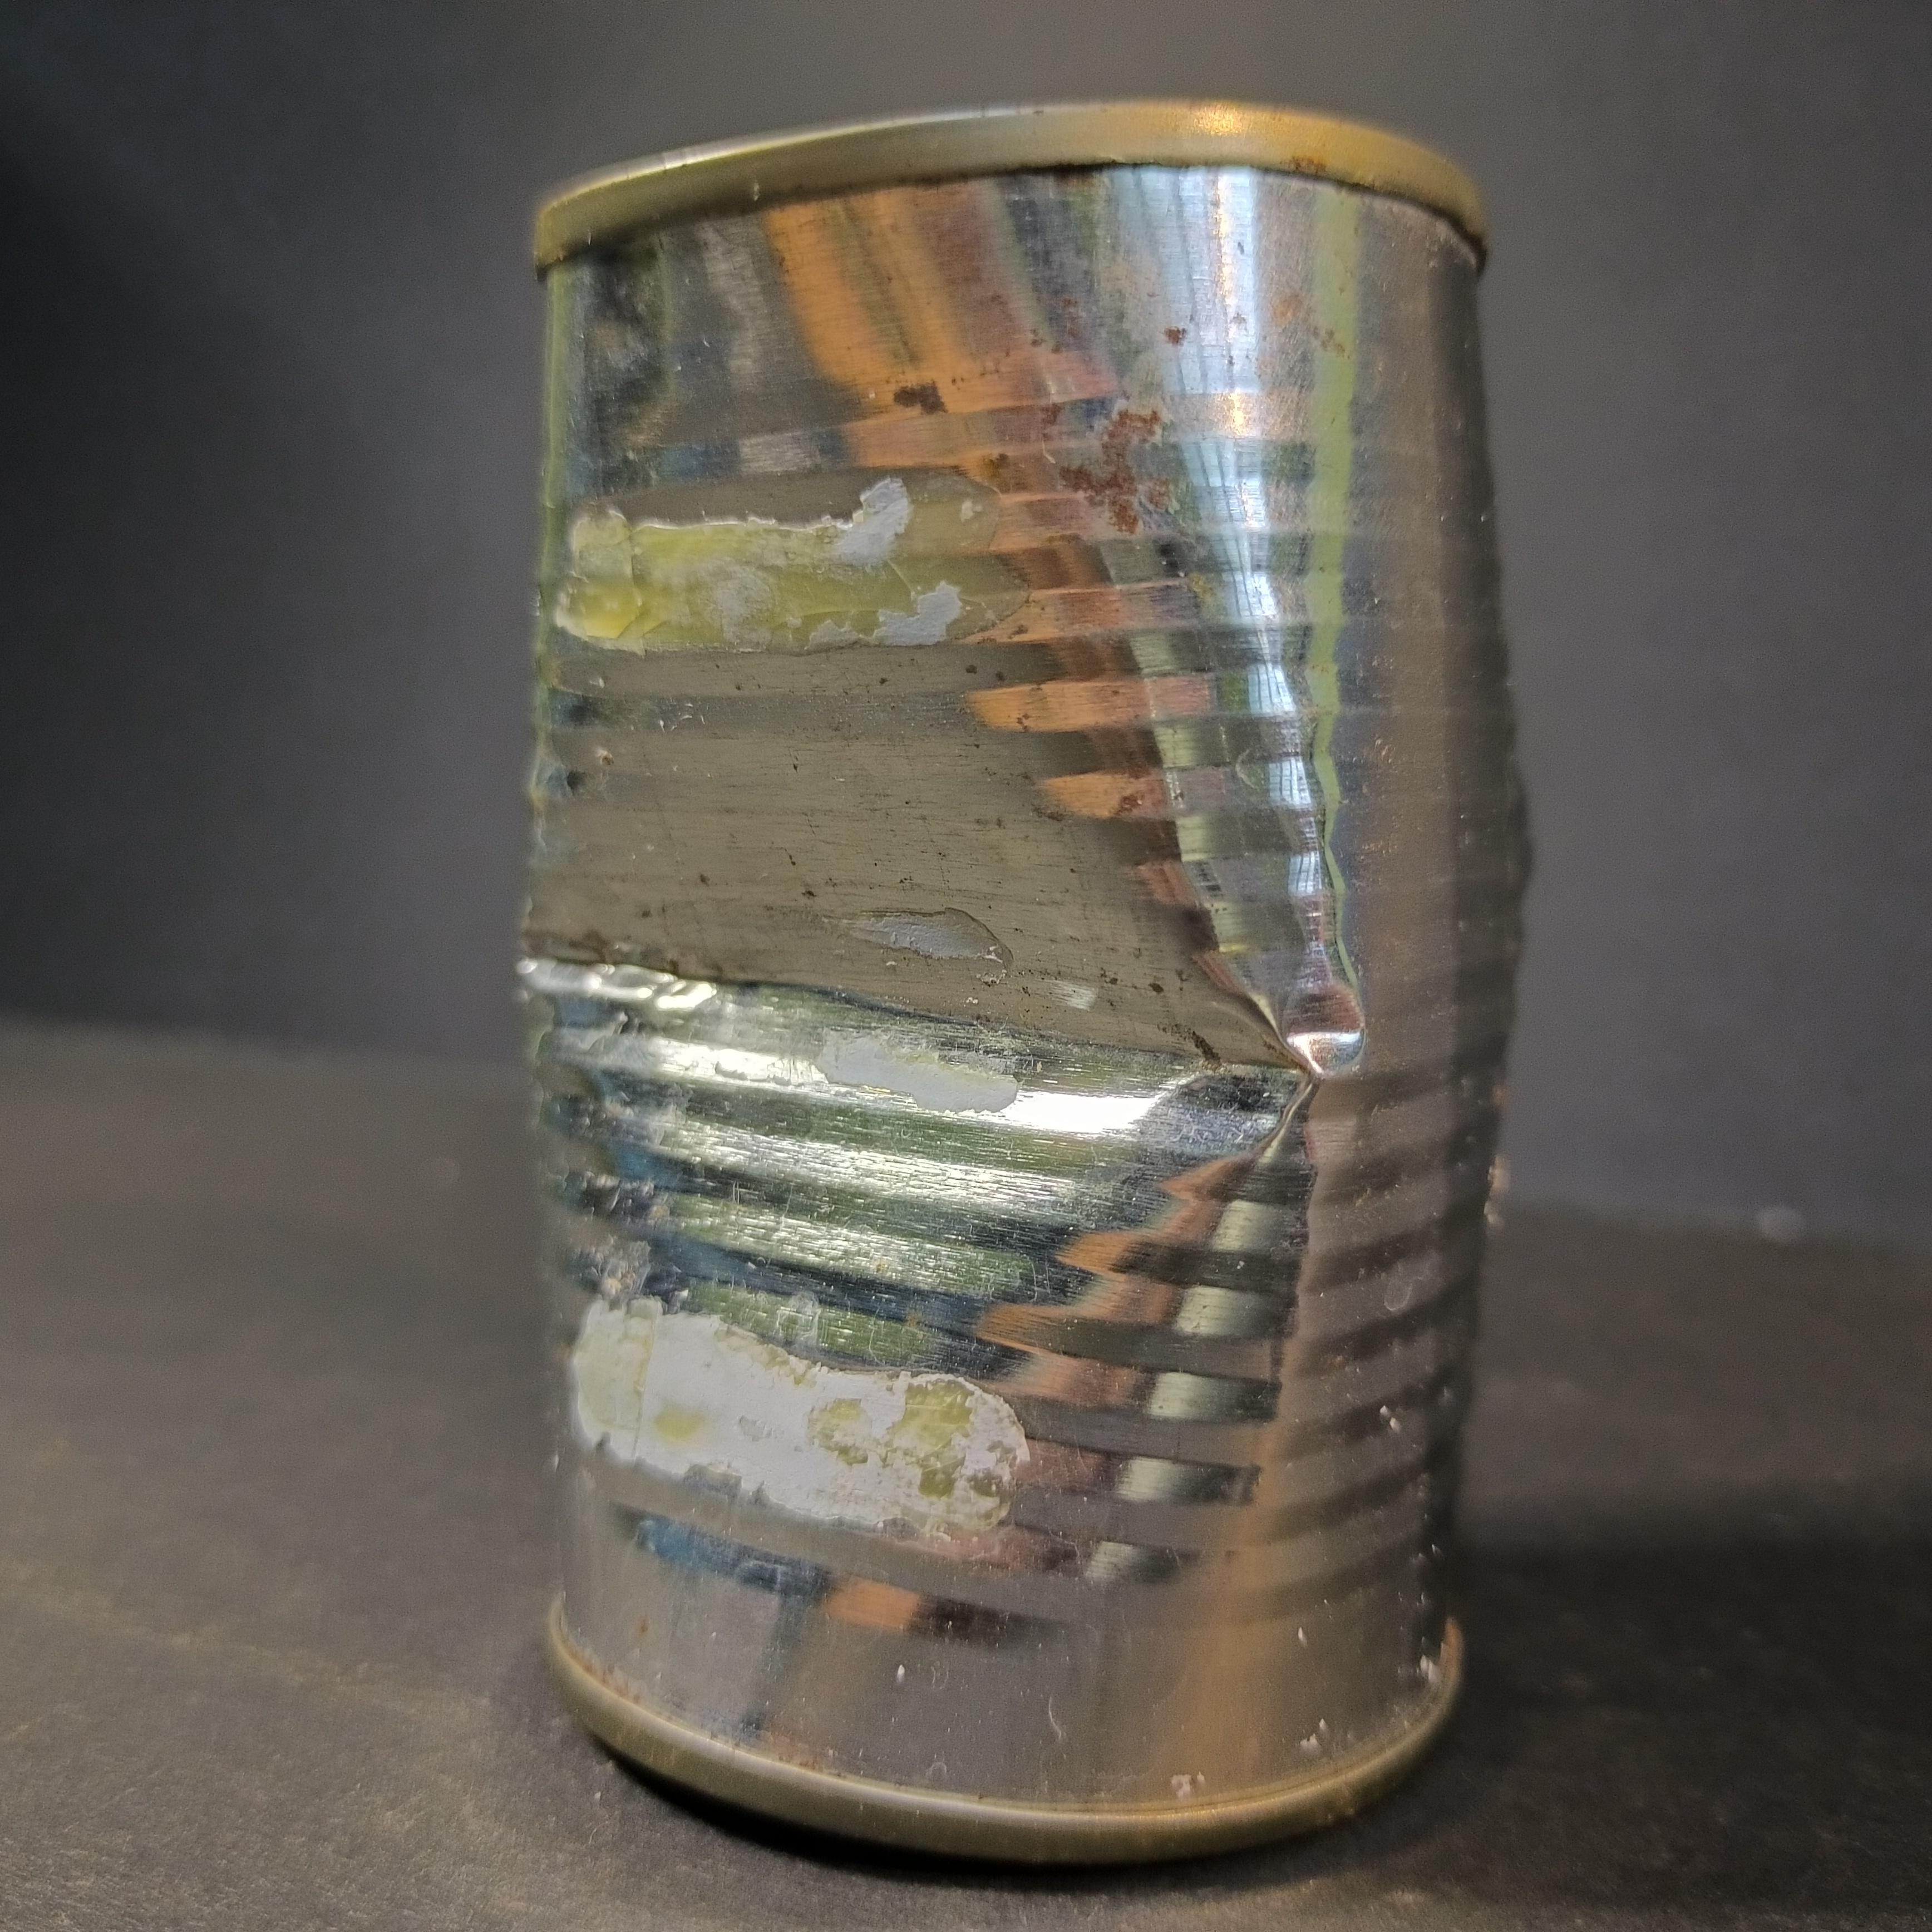Dented: (485, 69, 1553, 1897)
